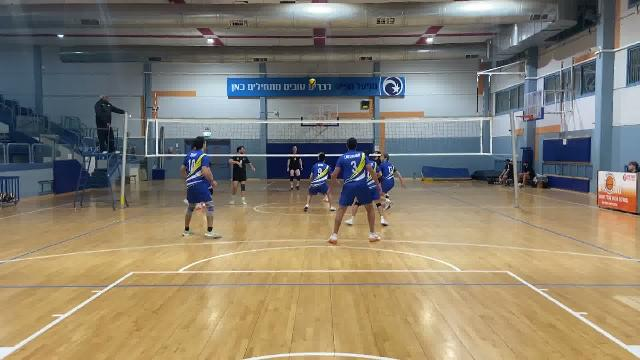ball: (307, 77, 316, 84)
